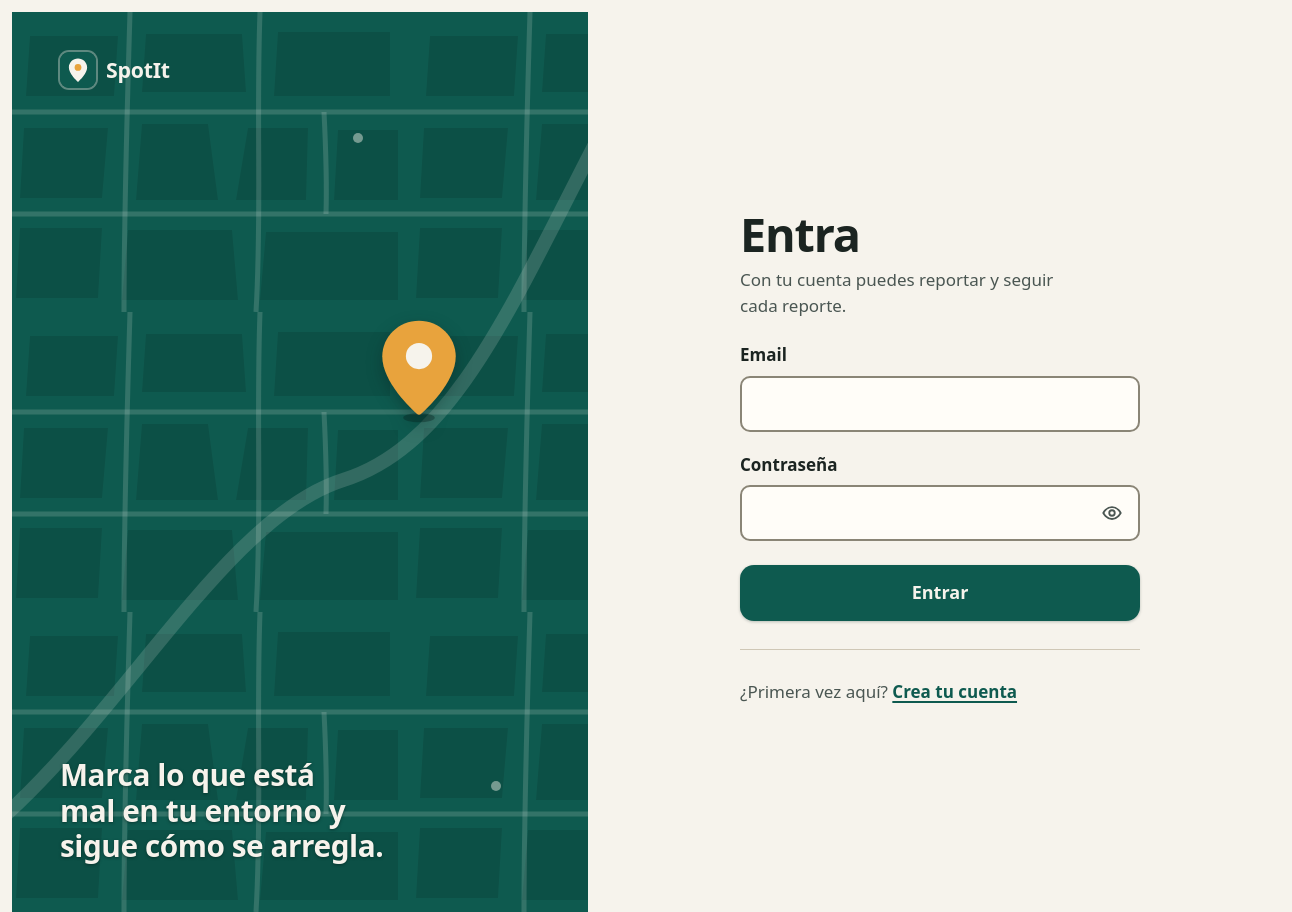
Test: formulario de entrada › valida en el cliente sin llamar al servidor
Click the button "Entrar" at (940, 593), box [740,565,1140,621]
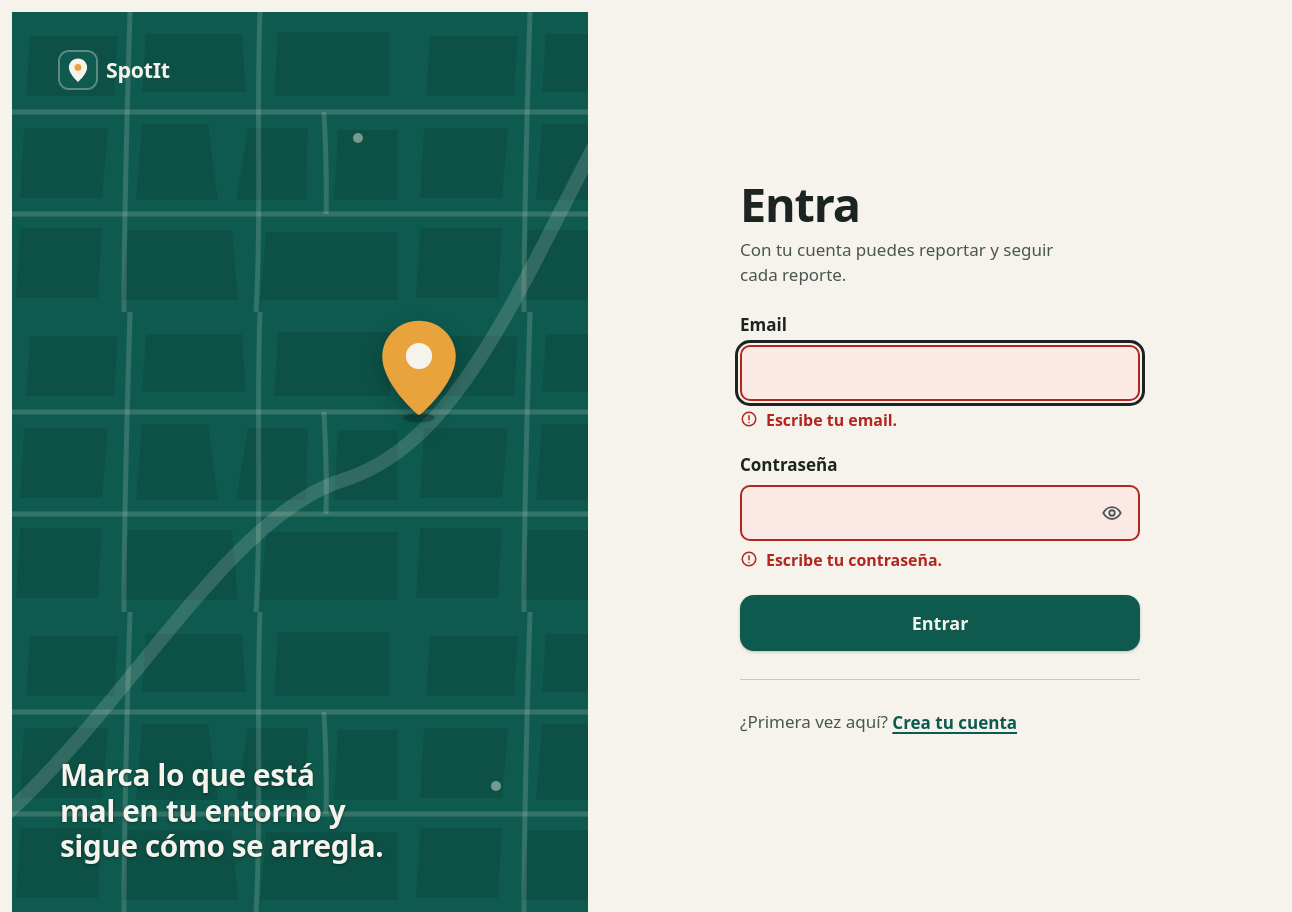
Expected: the text "Escribe tu email." is shown, [766,409,897,432]
Expected: the text "Escribe tu contraseña." is shown, [766,549,942,571]
